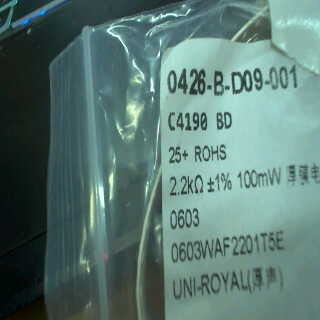2.2kR: (168, 172, 208, 201)
